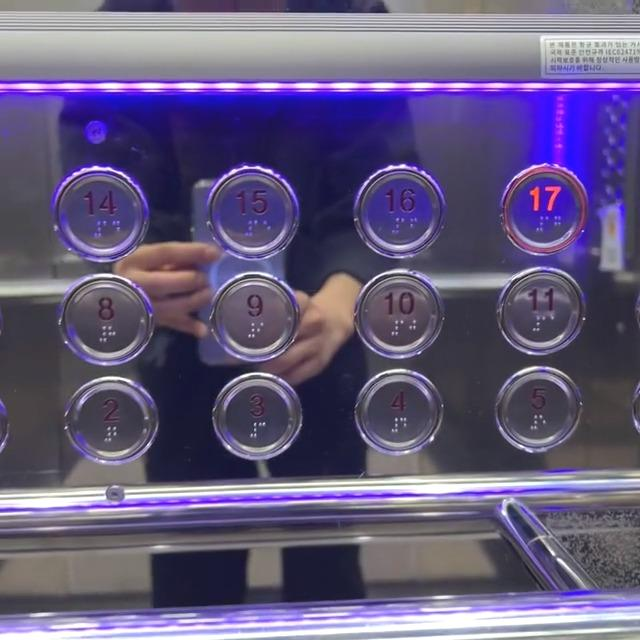button: (188, 160, 316, 268), (347, 159, 457, 266), (487, 156, 599, 253), (344, 272, 452, 372), (341, 371, 452, 468), (43, 169, 168, 255), (488, 364, 585, 463), (488, 272, 591, 354), (67, 282, 158, 366), (207, 377, 300, 459), (215, 282, 297, 360), (79, 376, 164, 451)
